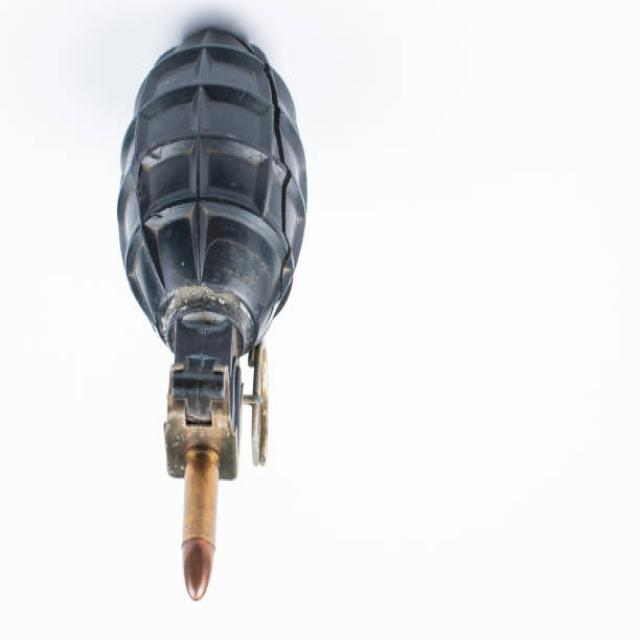grenade: (111, 16, 314, 489)
